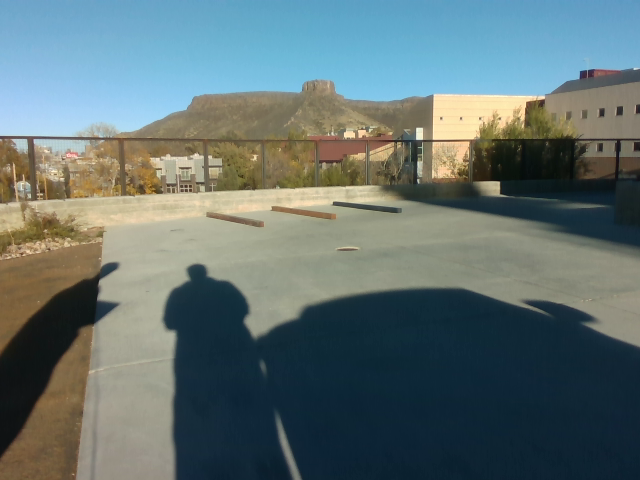dunnage: (198, 188, 407, 232)
